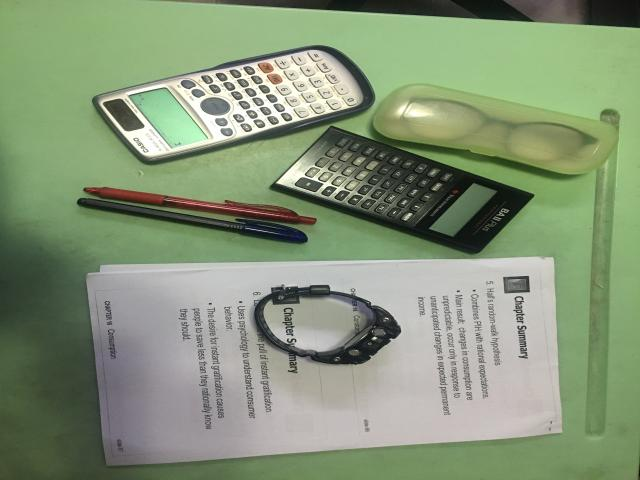Glasses: (373, 83, 618, 174)
Pen: (77, 198, 307, 243), (83, 188, 317, 224)
Watch: (255, 285, 402, 365)
paper: (87, 257, 562, 466)
